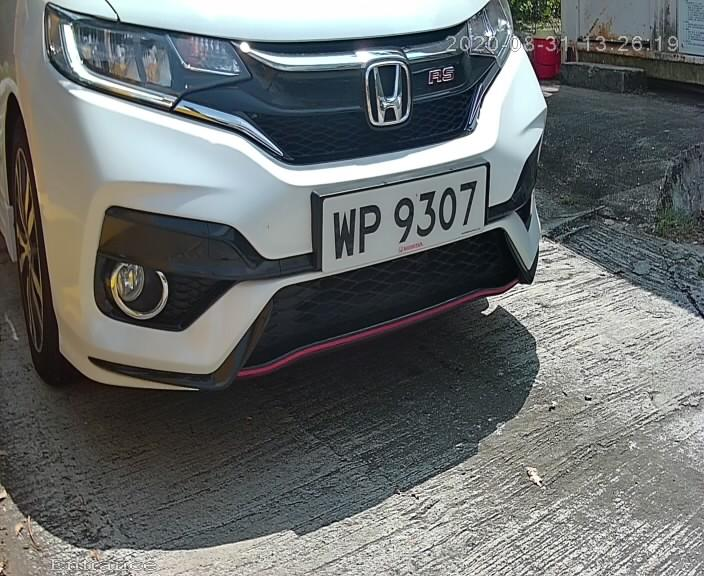License Plate: (305, 160, 484, 283)
